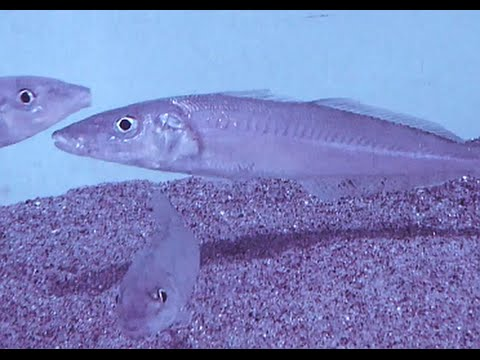kiss: (53, 87, 480, 188), (112, 189, 205, 339)
